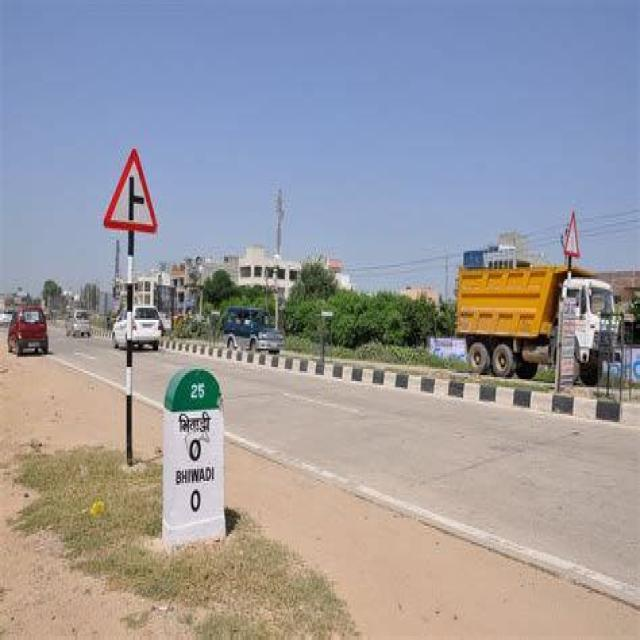Sideroad_toright: (100, 139, 178, 248)
